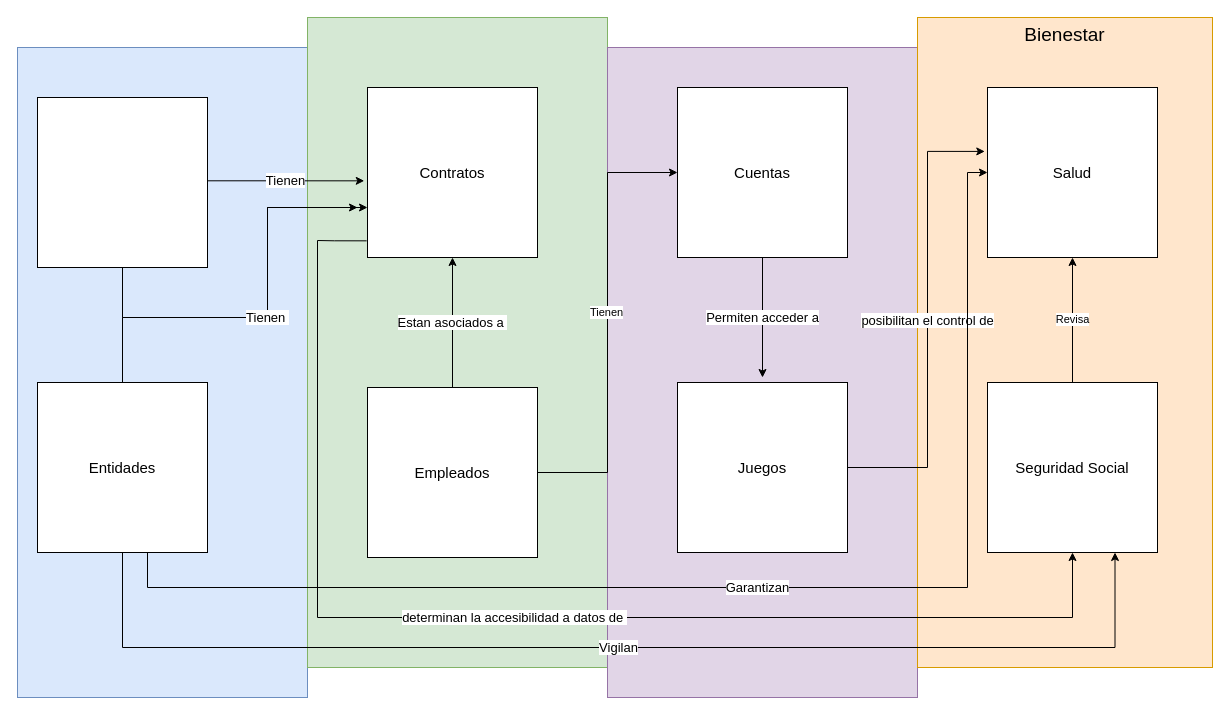
Some shapes in this 1230 by 715 pixel diagram are drawn without their labels. The shapes that lost their labels are listed below. From the top down, each one's box as (x1, y1, x2, y2) in pixels, then its label:
(36, 96, 208, 268): Empresas
(306, 16, 608, 668): Documentación empresarial
(16, 46, 308, 698): Organizaciones e intituciones
(606, 46, 918, 698): Accesibilidad a servicios
